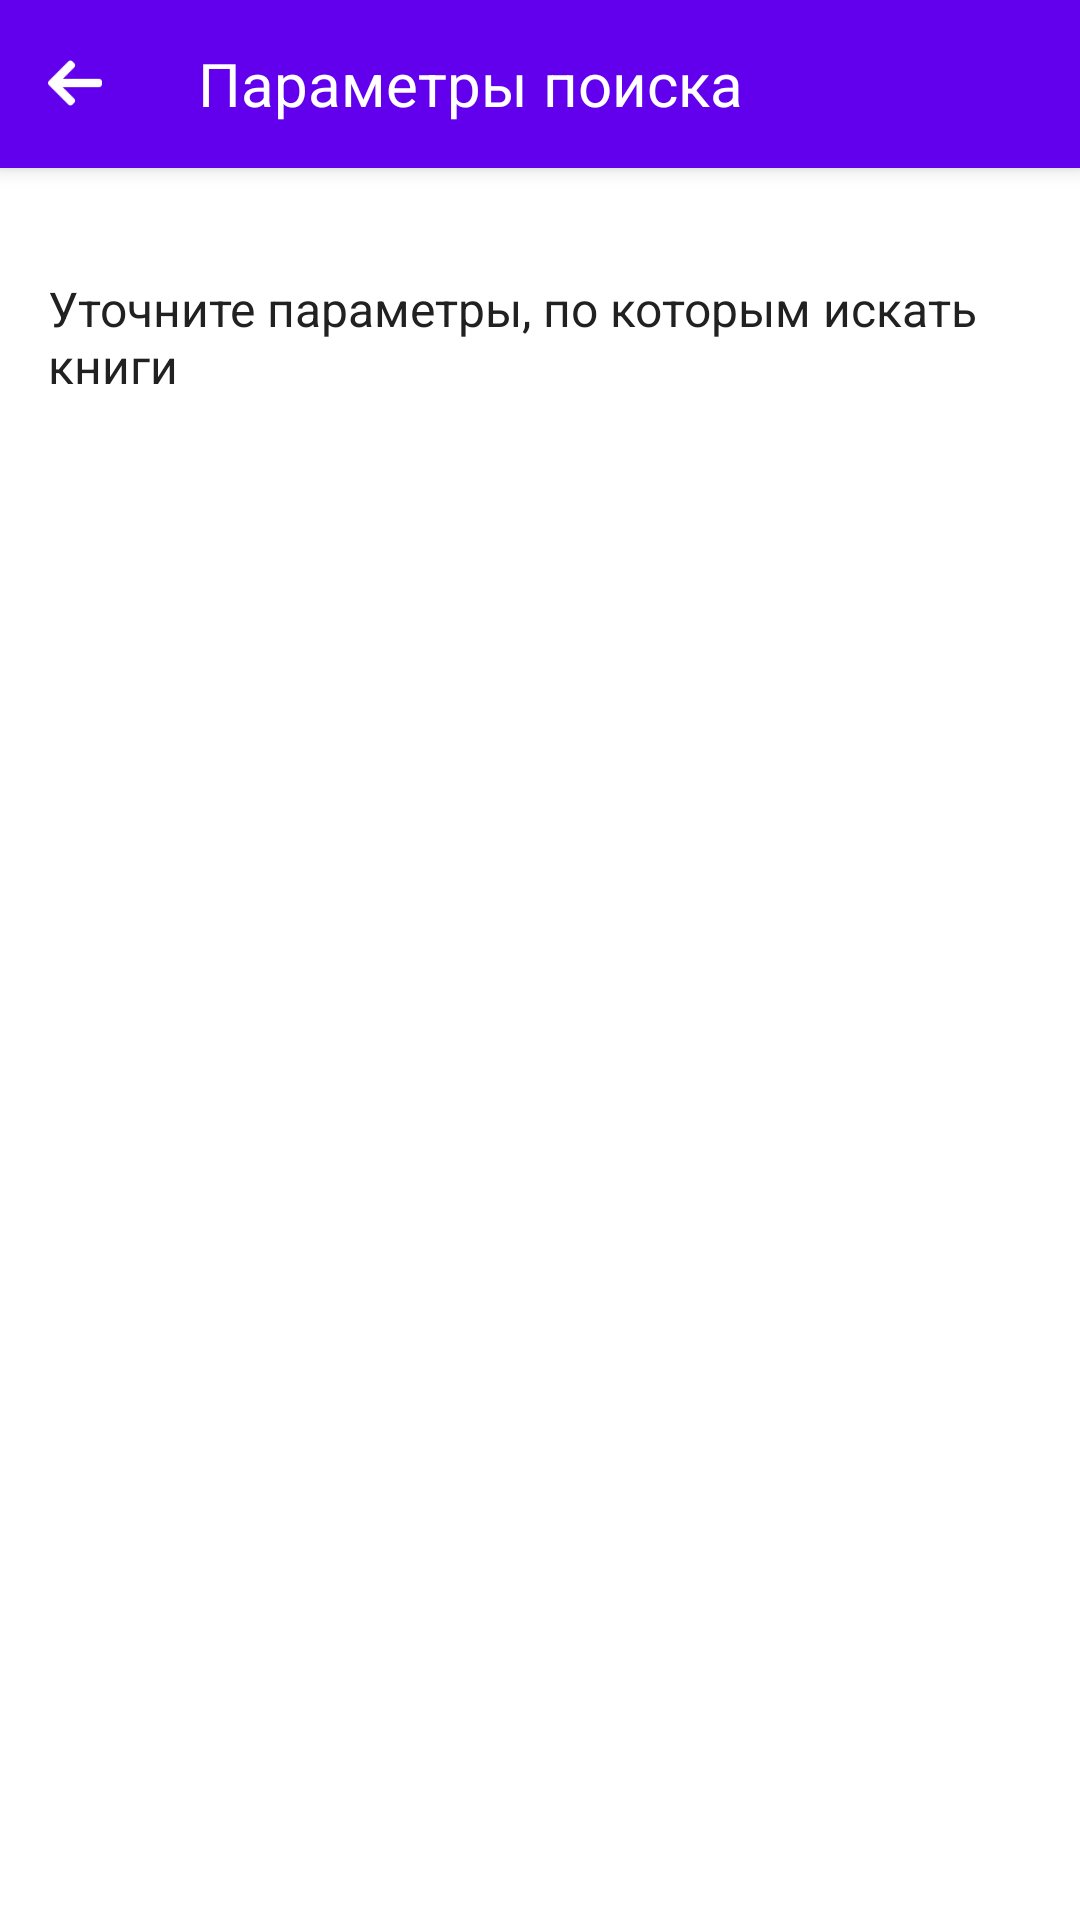

Where to tap for icons on this 1080px×1920px app screen, as [x,y]:
left arrow: [75,83]
